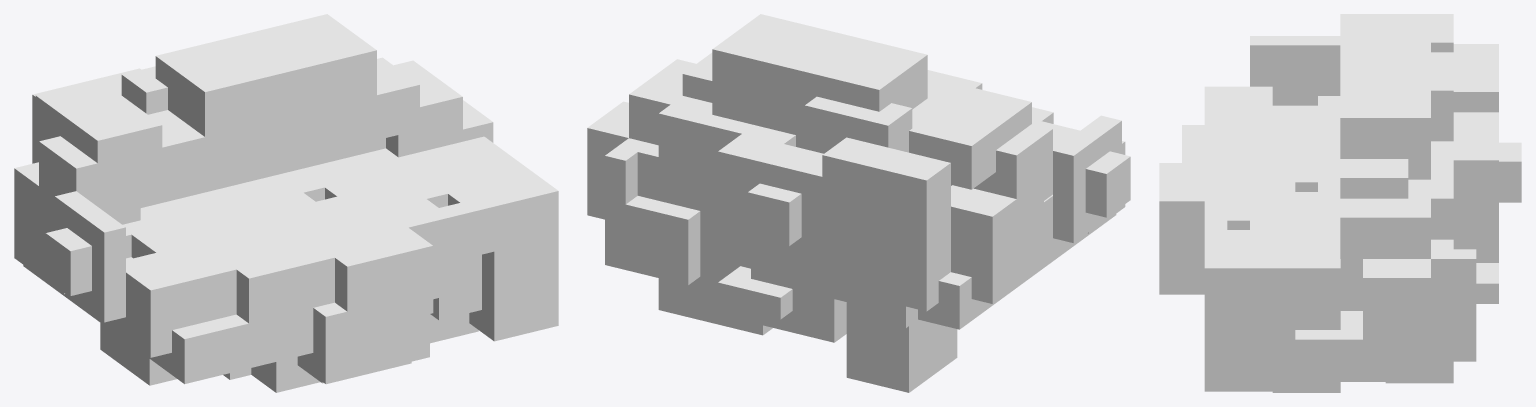
File: cloud_04.2.obj
The picture shows the model from 3 angles, left to right: view 1: azimuth 30°, elevation 25°; view 2: azimuth 150°, elevation 25°; view 3: azimuth 270°, elevation 25°; orthographic projection. The views are drawn at different scales.
Size of the model in its own units: 22 by 13 by 16.
Materials: 1 (1 with a texture image).
